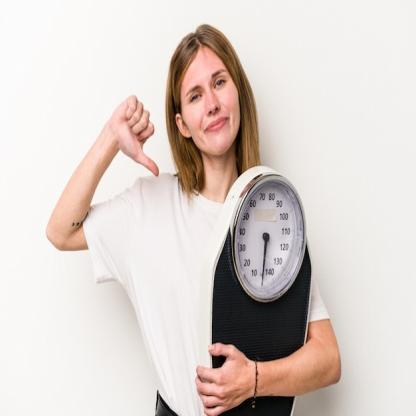thumb_down: (109, 92, 160, 178)
